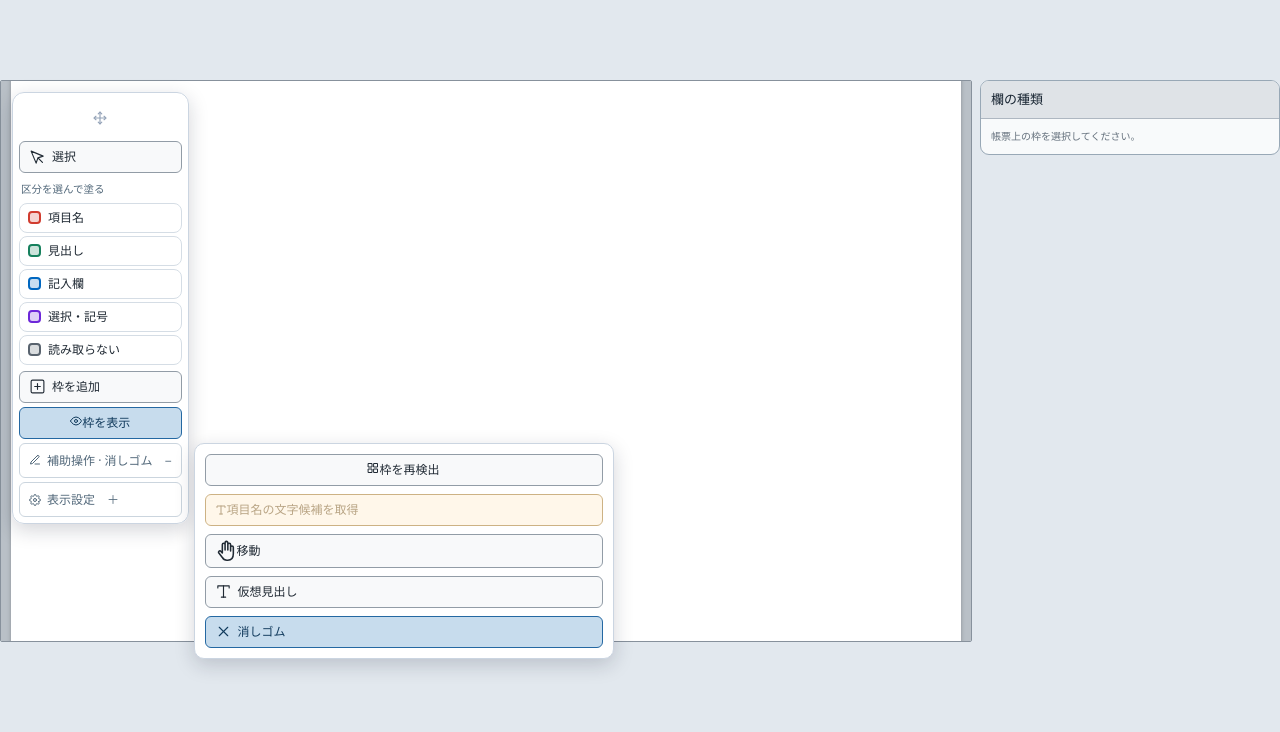
Test case: hides every canvas rectangle while using the auxiliary eraser without changing the layout
Earlier steps of the test are not shown.
Later steps or results of the test are not shown.
(page scrolled)
Step 1. Click the button with aria-label "すべての枠を表示" → (100, 423), box [19,407,182,439]
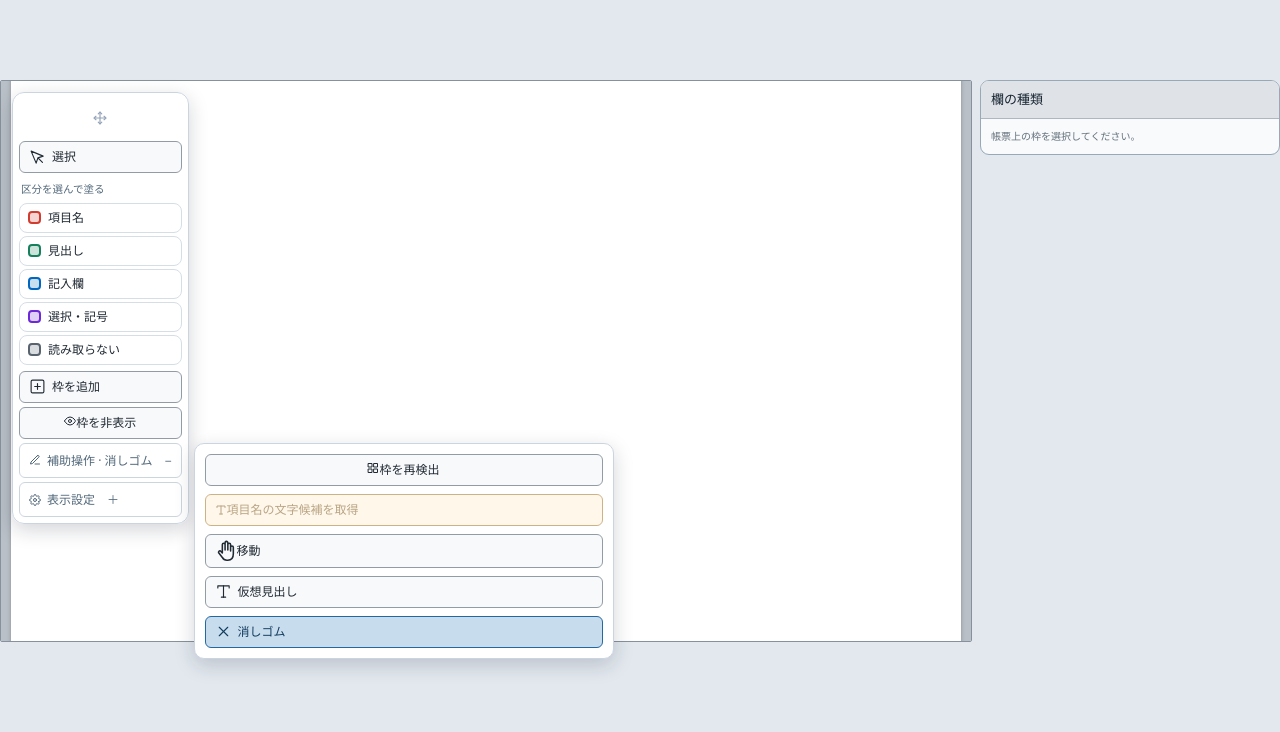
Check: the button with aria-label "すべての枠を非表示" is not pressed, box [19,407,182,439]
